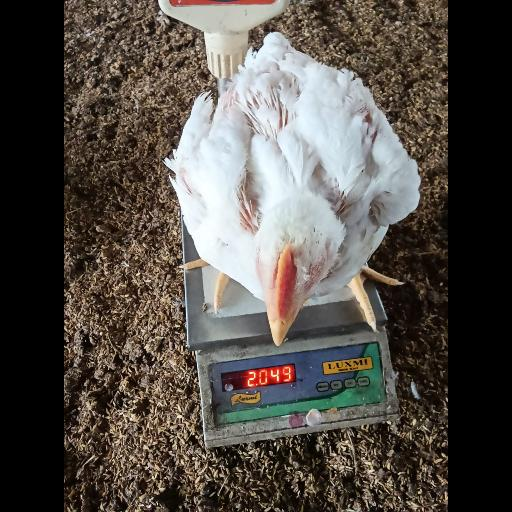chick: (167, 30, 416, 344)
